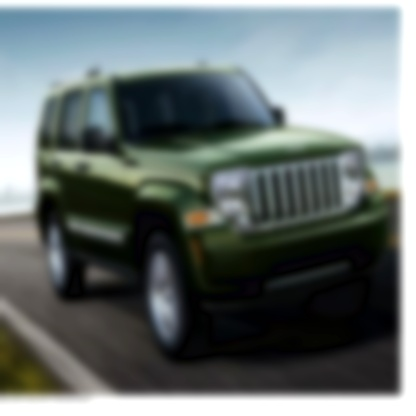Vehicle: (31, 60, 389, 351)
